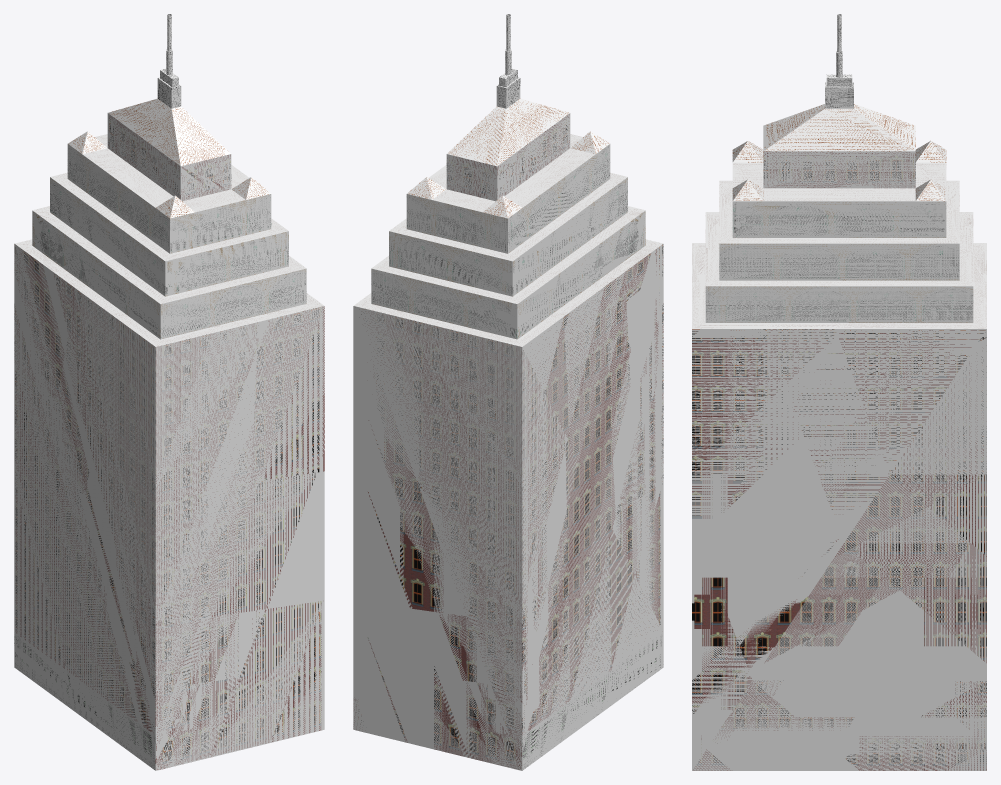
The model's file is Building_4.fbx.
3 renders of one model, left to right at view 1: azimuth 30°, elevation 25°; view 2: azimuth 150°, elevation 25°; view 3: azimuth 270°, elevation 25°, orthographic. The views are drawn at different scales.
Visible parts, largest first — view 1: Model; view 2: Model; view 3: Model.
Boxes of the visible parts, x1=… form: Model: x1=14, y1=14, x2=324, y2=770; Model: x1=353, y1=14, x2=663, y2=770; Model: x1=692, y1=14, x2=986, y2=770.
Bounding box in the file's own units: 720 × 2787 × 1044.
